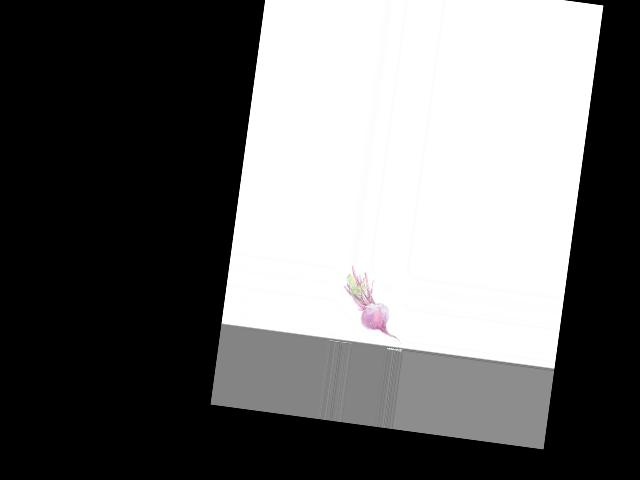beet: (337, 264, 410, 344)
